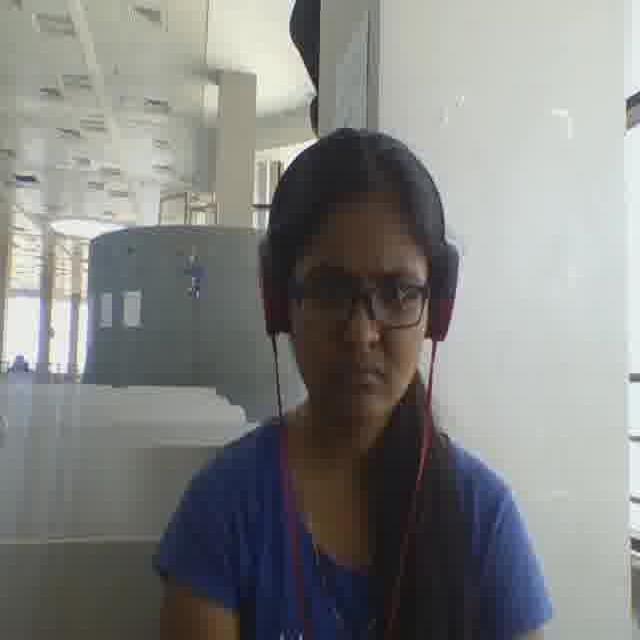Frustration: (287, 215, 411, 420)
